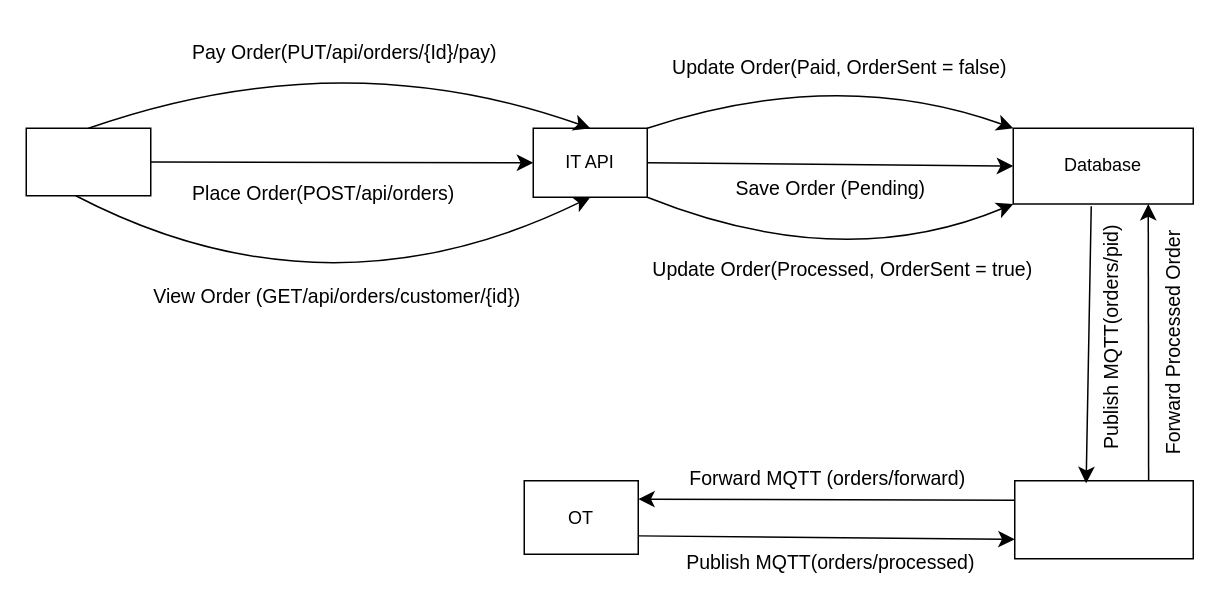
Image size: 1220x608. Some labels were removed from this diagram. The centre of each missing label's shape, as x and y in pixels:
"Customer" goes at (x=88, y=161).
"Integration" goes at (x=1103, y=519).
